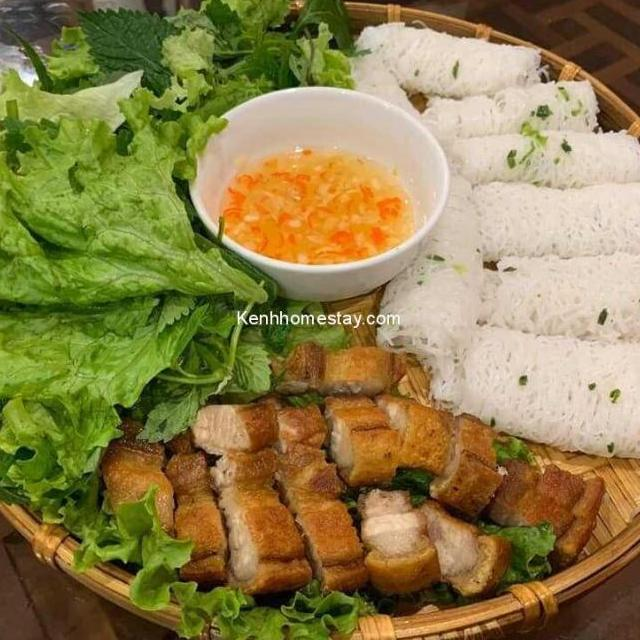banh hoi: (432, 322, 640, 473), (457, 244, 640, 377), (368, 169, 483, 372), (462, 166, 640, 280), (346, 14, 558, 104), (415, 72, 604, 155), (443, 122, 640, 198)
banh hoi heo quay: (0, 21, 640, 635)
thit heo quay: (184, 392, 317, 605), (252, 388, 373, 600), (248, 334, 440, 411), (93, 404, 182, 570), (152, 425, 234, 594), (410, 492, 514, 608), (479, 479, 602, 577), (188, 390, 333, 472), (352, 481, 446, 600), (419, 402, 510, 522), (492, 445, 610, 534), (322, 386, 404, 497), (370, 384, 460, 484)
